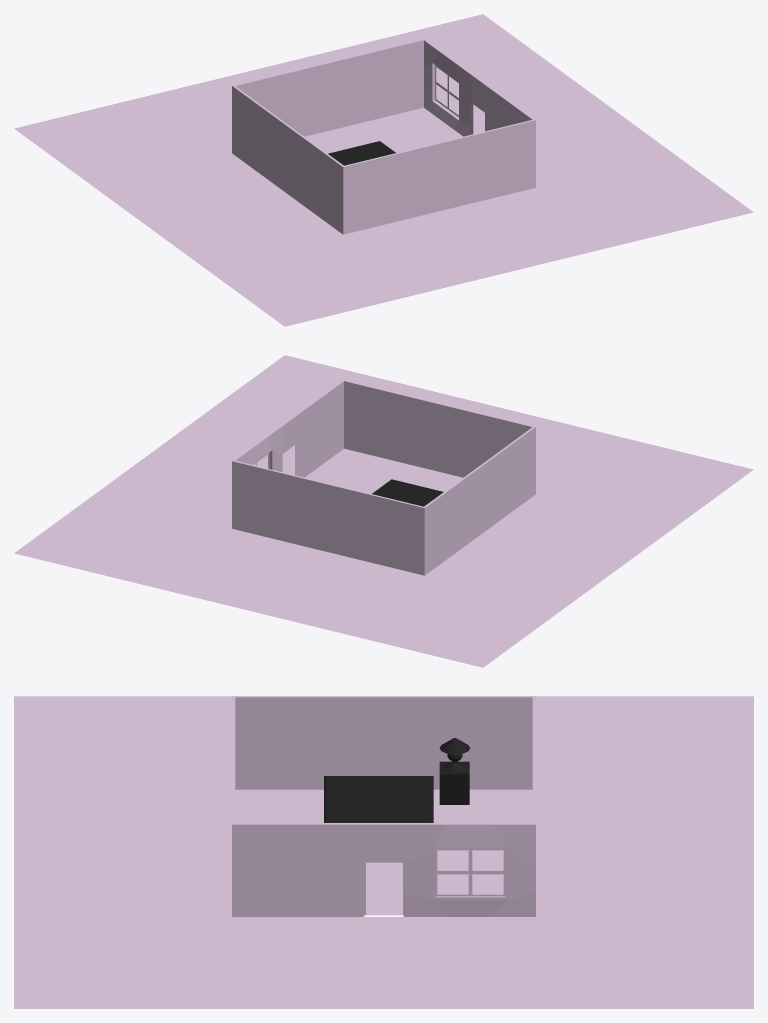
The model's file is kartik.fbx.
The picture shows the model from 3 angles, top to bottom: view 1: azimuth 30°, elevation 25°; view 2: azimuth 150°, elevation 25°; view 3: azimuth 270°, elevation 25°; orthographic projection. The views are drawn at different scales.
Visible parts, largest first — view 1: Plane.001, Cube; view 2: Plane.001, Cube; view 3: Plane.001, Cube.
Boxes of the visible parts, x1,y1,x2,y2 form: Plane.001: (14, 14, 753, 326); Cube: (328, 141, 395, 165); Plane.001: (14, 355, 753, 667); Cube: (372, 479, 443, 506); Plane.001: (14, 696, 753, 1008); Cube: (324, 738, 470, 822).
Bounding box in the file's own units: 2478 × 341 × 2478.
